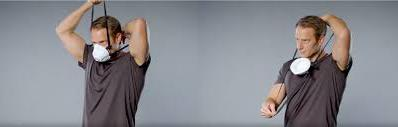mask_weared_incorrect: (290, 35, 313, 66)
with_mask: (91, 36, 109, 62)
